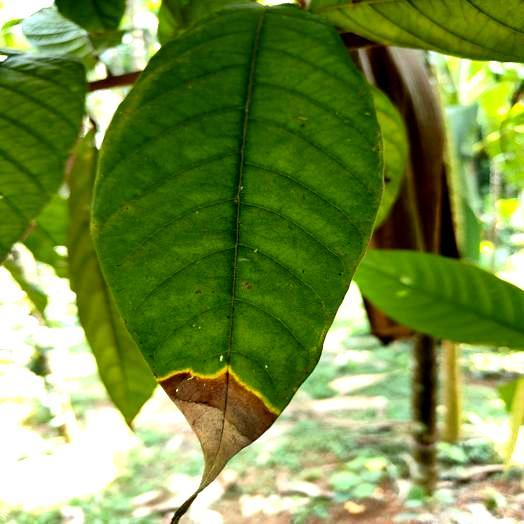Potassium: (92, 6, 382, 485)
